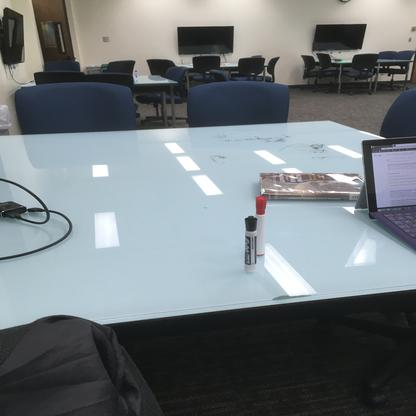expo_marker: (236, 212, 262, 275), (252, 194, 272, 260)
